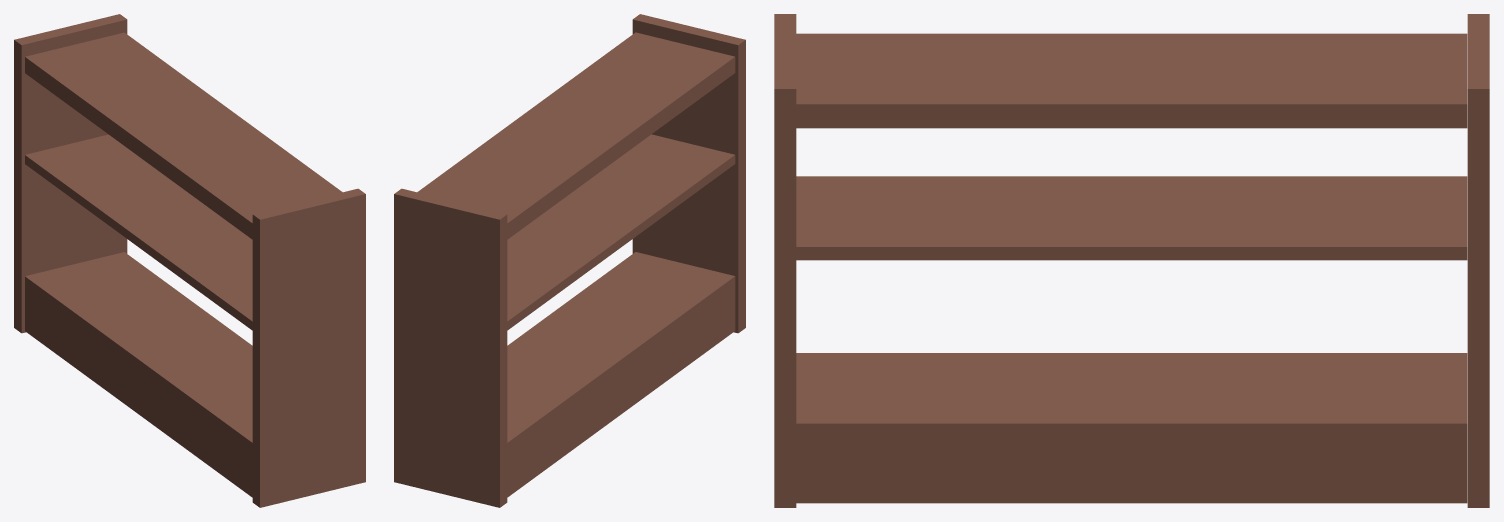
File: SM_Shelf_A2_Empty.fbx
3 renders of one model, left to right at view 1: azimuth 30°, elevation 25°; view 2: azimuth 150°, elevation 25°; view 3: azimuth 270°, elevation 25°, orthographic. The views are drawn at different scales.
Parts seen in each view (by area): view 1: SM_Shelf_A2_Empty; view 2: SM_Shelf_A2_Empty; view 3: SM_Shelf_A2_Empty.
Part boxes in pixels (x1,y1,x2,y2): SM_Shelf_A2_Empty: (14,14,365,507); SM_Shelf_A2_Empty: (394,14,745,507); SM_Shelf_A2_Empty: (774,14,1489,507).
Bounding box in the file's own units: 45.02 × 117 × 181.
Materials: 1 (1 with a texture image).
